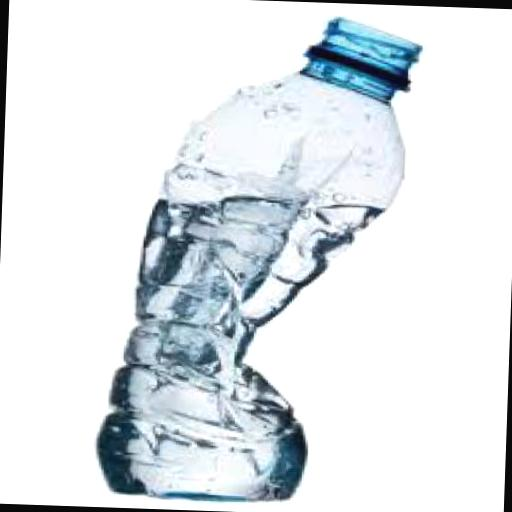plastic: (90, 6, 420, 506)
